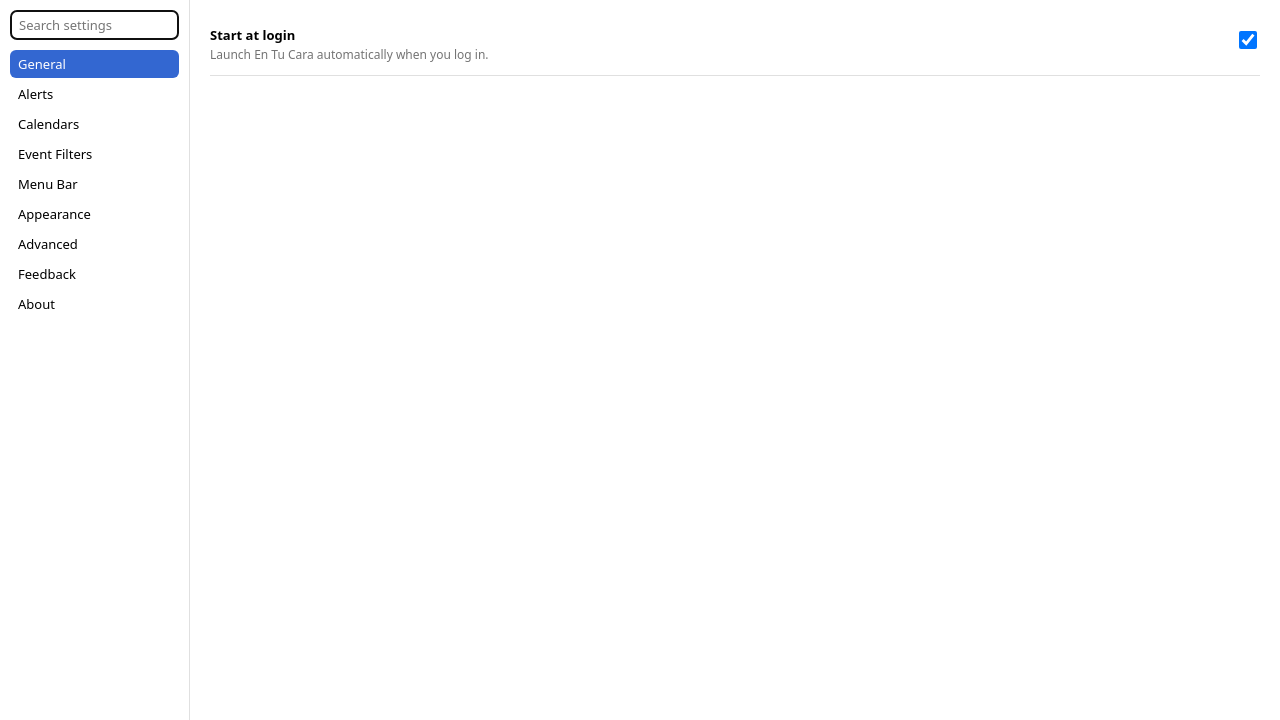
it: SettingsWindow › garbage search shows the empty state
The width and height of the screenshot is (1280, 720).
Type "qqqqxxxx" into the search field labelled "Search settings".
click(94, 25); type("qqqqxxxx")  # box [10,10,179,40]
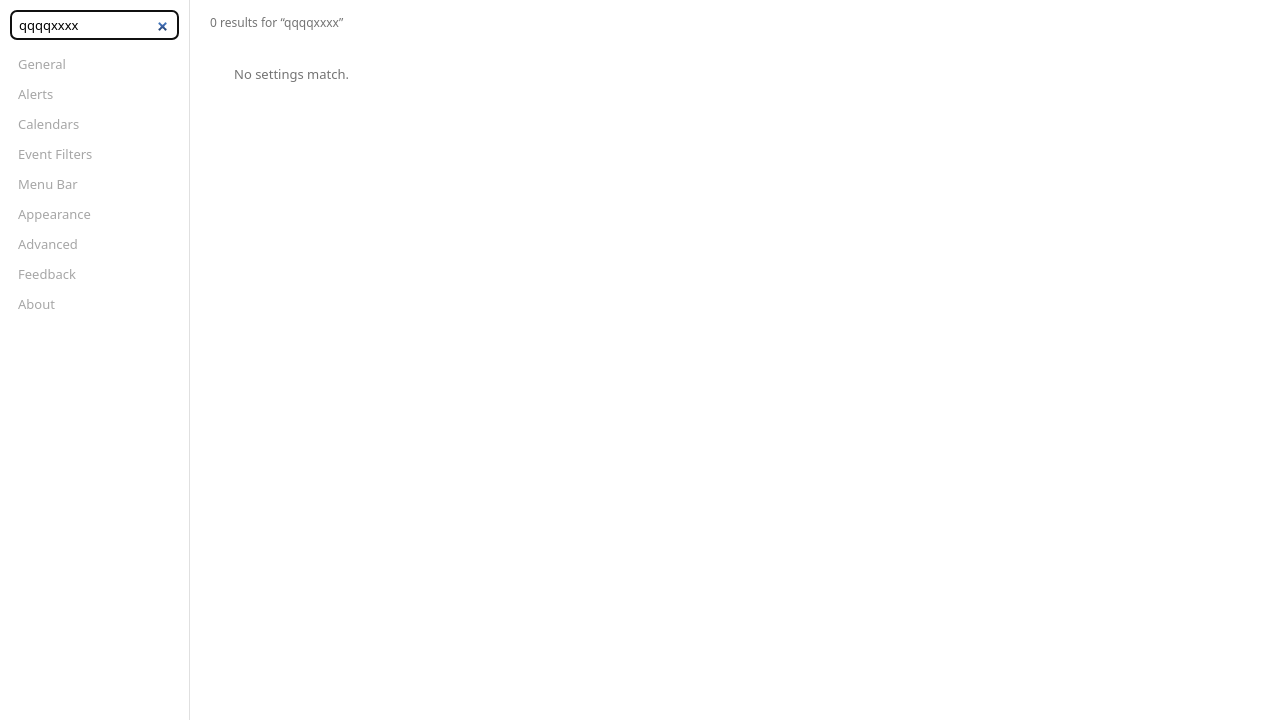
Check: the text "No settings match." is shown, box [234,65,349,83]
